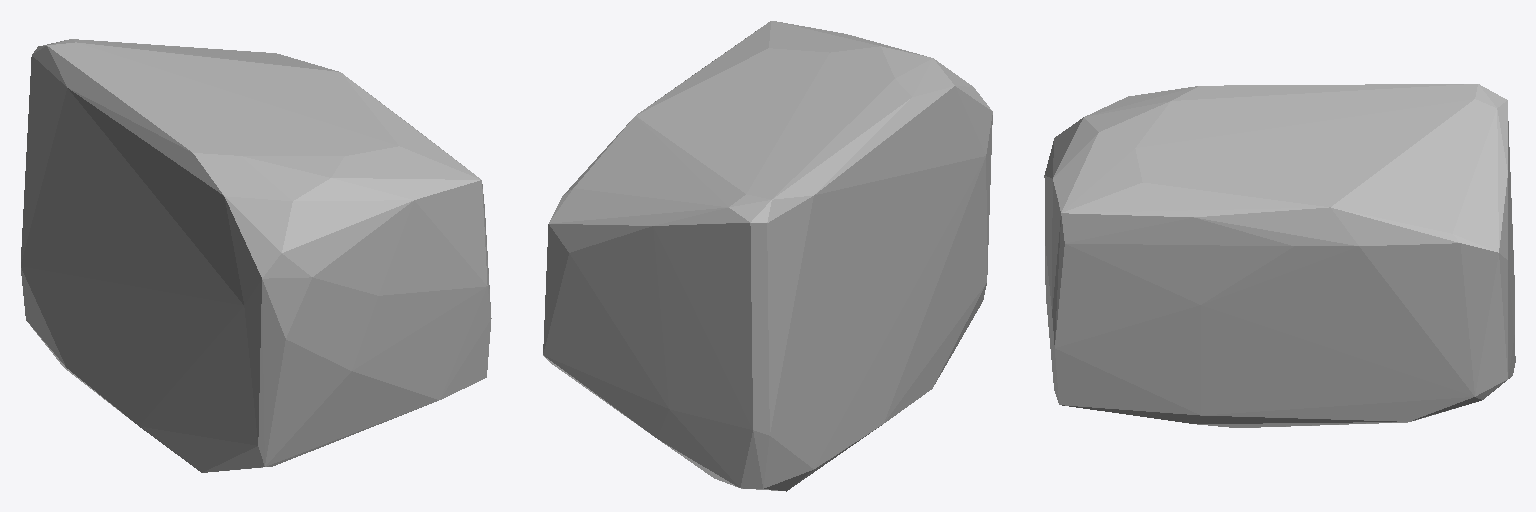
robot.urdf — root:
<robot name="root">
  <link name="link_rock17_convex_piece_0">
    <inertial>
      <origin rpy="0 0 0" xyz="0 0 0"/>
      <mass value="4.07E+06"/>
      <inertia ixx="2.13E+10" ixy="1.04E+09" ixz="-1.36E+09" iyy="1.19E+10" iyz="1.78E+09" izz="1.93E+10"/>
    </inertial>
    <visual>
      <origin rpy="0 0 0" xyz="0 0 0"/>
      <geometry>
        <mesh filename="rock17_convex_piece_0.obj" scale="1.0000E+00 1.0000E+00 1.0000E+00"/>
      </geometry>
      <material name="">
        <color rgba="7.50E-01 7.50E-01 7.50E-01 1"/>
      </material>
    </visual>
    <collision>
      <origin rpy="0 0 0" xyz="0 0 0"/>
      <geometry>
        <mesh filename="rock17_convex_piece_0.obj" scale="1.0000E+00 1.0000E+00 1.0000E+00"/>
      </geometry>
    </collision>
  </link>
</robot>

--- Render facts (derived) ---
Views: 3 orthographic renders of the robot side by side, from view 1: azimuth 30°, elevation 25°; view 2: azimuth 150°, elevation 25°; view 3: azimuth 270°, elevation 25°.
Robot: root — 1 links, 0 joints (none); root link link_rock17_convex_piece_0; default pose: every joint at zero.
Visible links, largest first — view 1: link_rock17_convex_piece_0; view 2: link_rock17_convex_piece_0; view 3: link_rock17_convex_piece_0.
Link boxes in pixels (bbox=[...]): link_rock17_convex_piece_0: bbox=[21, 39, 491, 472]; link_rock17_convex_piece_0: bbox=[543, 21, 992, 491]; link_rock17_convex_piece_0: bbox=[1044, 84, 1515, 427].
Size in the robot's own frame: 135 by 236 by 165 metres.
Meshes: 1 distinct files referenced, 1 mesh visuals loaded (1 OBJ).